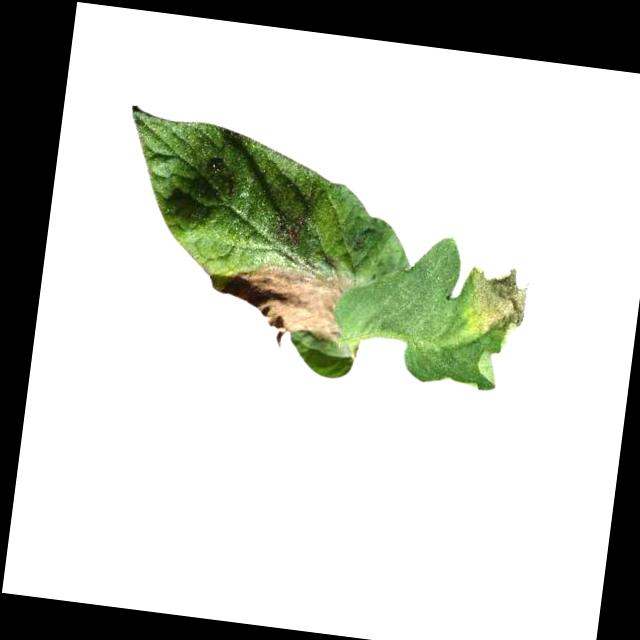Late_blight: (217, 259, 354, 342), (461, 260, 531, 341)
